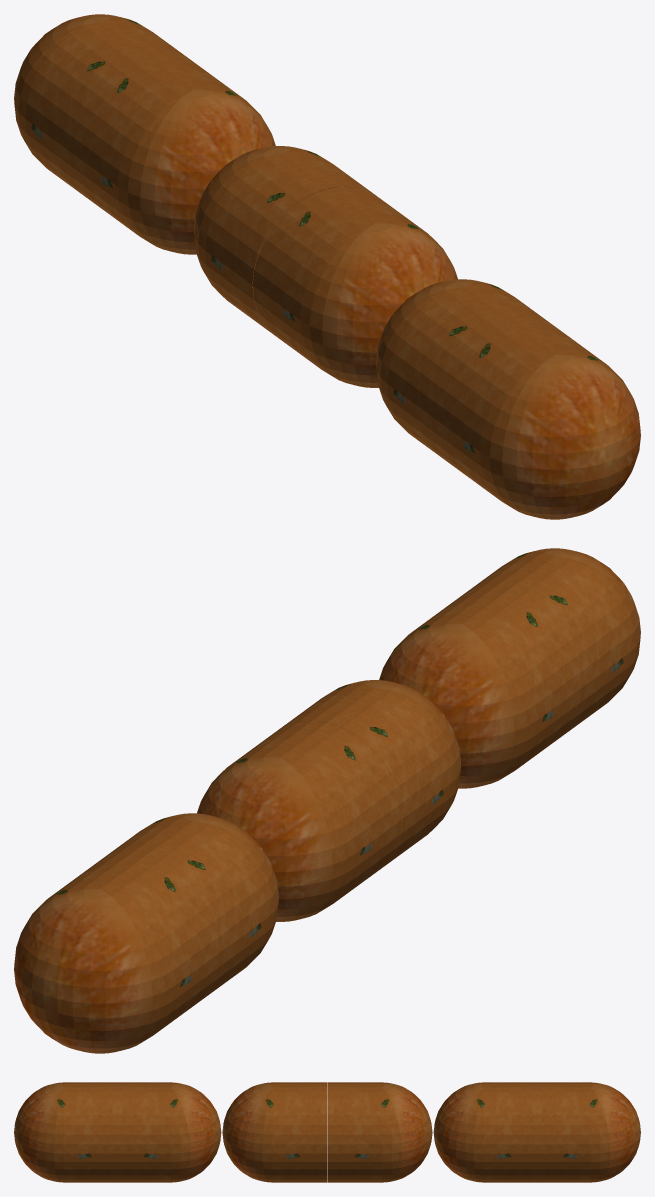
Rendered from Chorizo2.fbx.
The picture shows the model from 3 angles, top to bottom: view 1: azimuth 30°, elevation 25°; view 2: azimuth 150°, elevation 25°; view 3: azimuth 270°, elevation 25°; orthographic projection. The views are drawn at different scales.
Parts seen in each view (by area): view 1: Chorizo1.001; view 2: Chorizo1.001; view 3: Chorizo1.001.
Boxes of the visible parts, bbox=[...] form: Chorizo1.001: bbox=[14, 14, 640, 519]; Chorizo1.001: bbox=[14, 548, 640, 1053]; Chorizo1.001: bbox=[14, 1082, 640, 1182].
Bounding box in the file's own units: 1.59 × 1.59 × 9.95.
